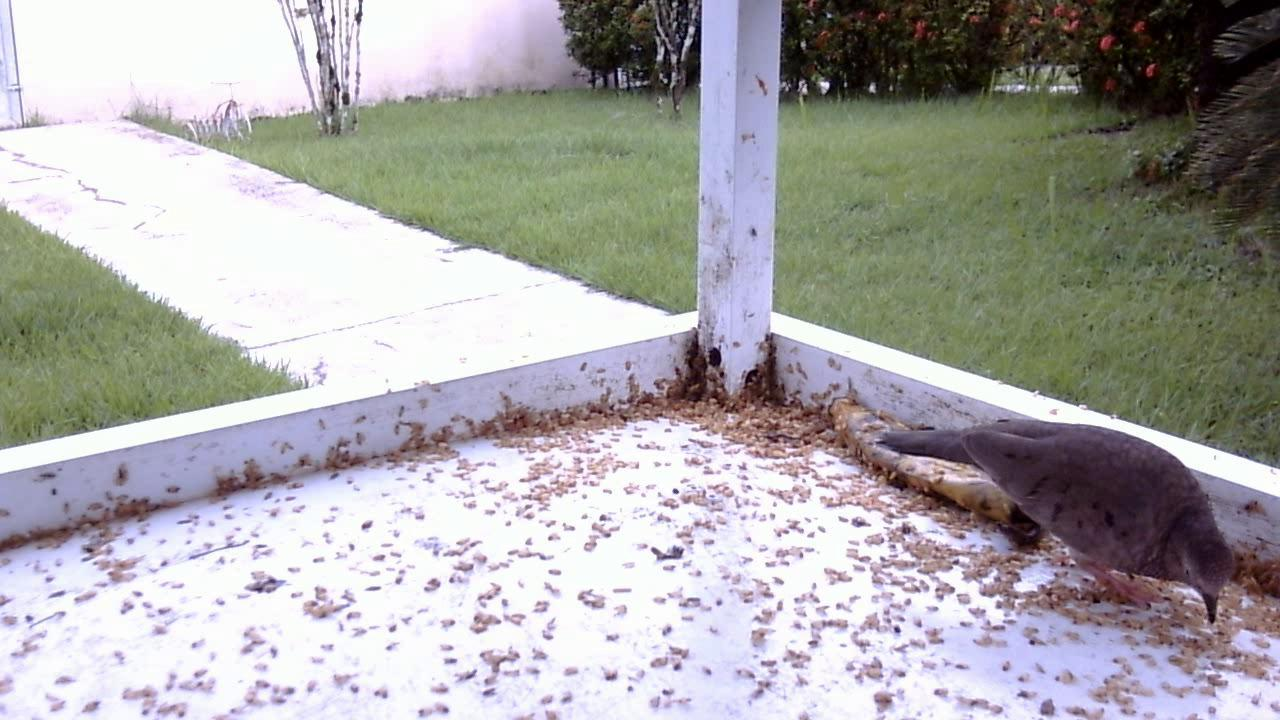rolinha: (844, 393, 1239, 630)
